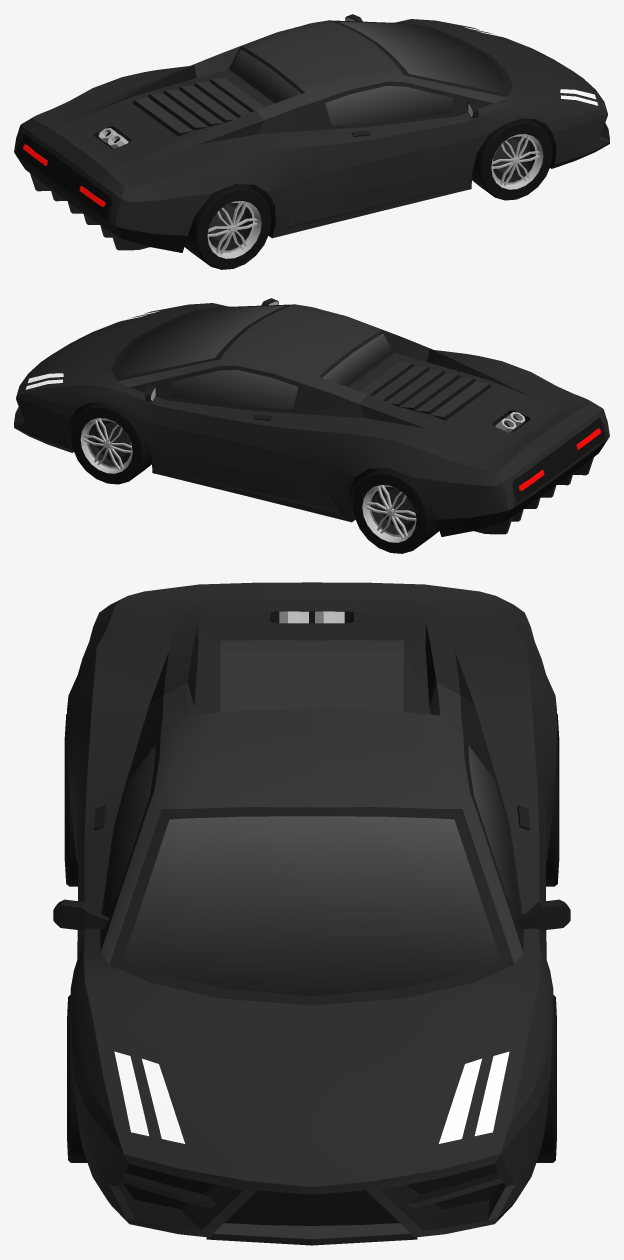
The model's file is Car_129.glb.
3 views of the same model, one above another, from view 1: azimuth 30°, elevation 25°; view 2: azimuth 150°, elevation 25°; view 3: azimuth 270°, elevation 25° (orthographic). The views are drawn at different scales.
Parts seen in each view (by area): view 1: Car_129, wheel_3_Car_129_Wheel_2R, wheel_1_Car_129_Wheel_1R; view 2: Car_129, wheel_2_Car_129_Wheel_2L, wheel_0_Car_129_Wheel_1L; view 3: Car_129, wheel_0_Car_129_Wheel_1L, wheel_1_Car_129_Wheel_1R, wheel_3_Car_129_Wheel_2R, wheel_2_Car_129_Wheel_2L.
Part boxes in pixels (x1,y1,x2,y2): Car_129: [14, 14, 609, 252]; wheel_3_Car_129_Wheel_2R: [184, 184, 271, 269]; wheel_1_Car_129_Wheel_1R: [472, 118, 552, 200]; Car_129: [14, 298, 609, 536]; wheel_2_Car_129_Wheel_2L: [352, 468, 439, 553]; wheel_0_Car_129_Wheel_1L: [71, 402, 151, 484]; Car_129: [53, 582, 570, 1245]; wheel_0_Car_129_Wheel_1L: [536, 995, 556, 1162]; wheel_1_Car_129_Wheel_1R: [67, 995, 87, 1162]; wheel_3_Car_129_Wheel_2R: [64, 714, 78, 886]; wheel_2_Car_129_Wheel_2L: [545, 714, 559, 886].
Size of the model in its own units: 4.85 by 1.22 by 2.08.
Materials: 3 (3 with a texture image).
